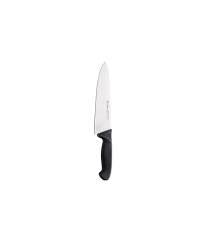Knife: (93, 60, 112, 180)
